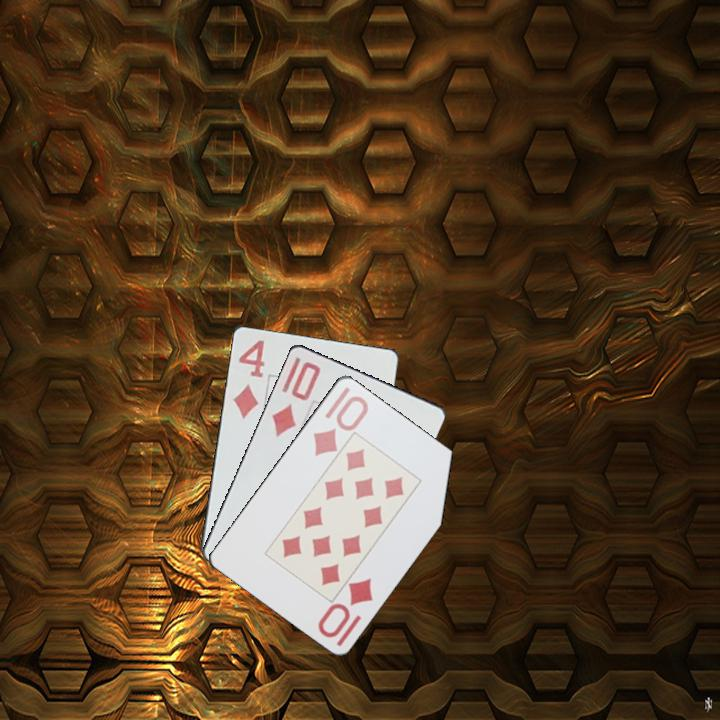4d: (229, 336, 267, 422)
Td: (309, 382, 371, 459), (314, 574, 376, 649), (268, 357, 323, 439)
